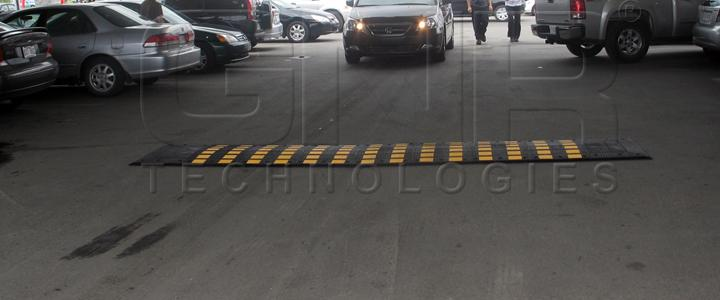Bump: (163, 133, 646, 163)
